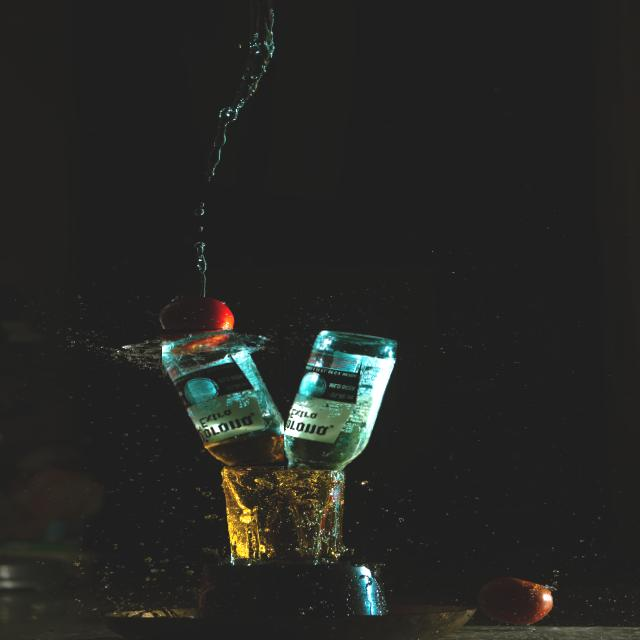Bottle: (161, 330, 282, 466), (283, 330, 397, 470)
